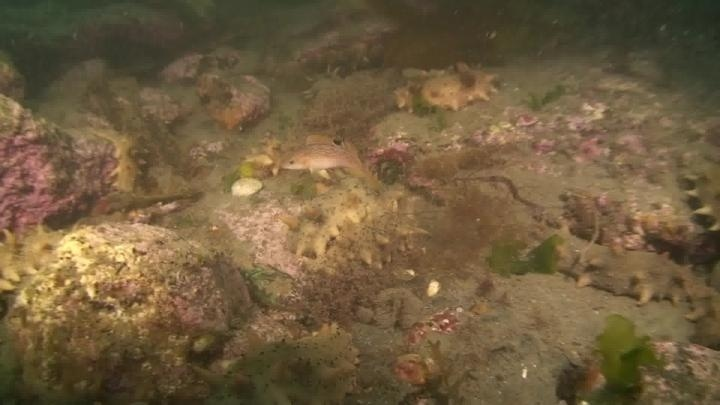holothurian: (536, 225, 717, 314), (278, 174, 429, 268), (192, 321, 362, 403), (326, 197, 430, 272), (1, 219, 66, 298), (413, 59, 503, 115), (89, 122, 150, 196), (680, 146, 720, 238), (296, 37, 383, 79)
